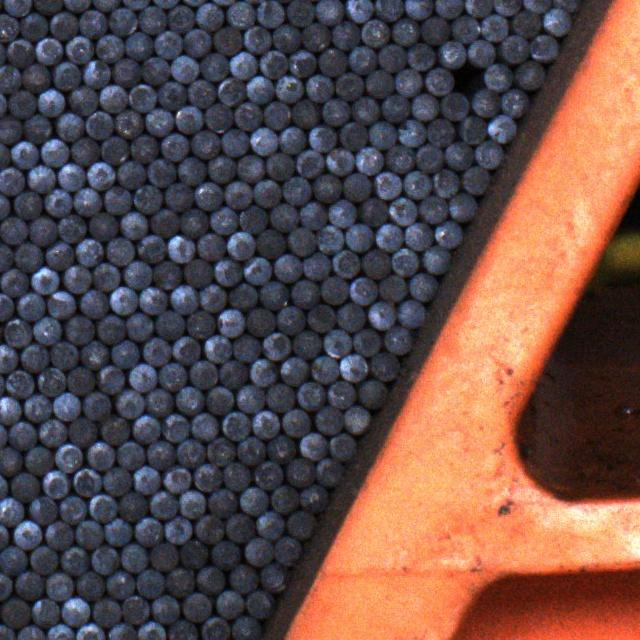tool: (514, 61, 544, 90), (115, 388, 144, 418), (287, 228, 316, 257), (246, 590, 275, 619), (75, 570, 104, 599), (254, 230, 283, 259), (498, 36, 528, 64), (156, 310, 184, 340), (180, 592, 210, 620), (286, 512, 316, 540), (169, 284, 197, 314), (212, 540, 240, 570), (15, 241, 43, 271), (64, 314, 92, 344), (96, 313, 124, 343), (0, 599, 28, 629), (295, 148, 323, 177), (150, 541, 178, 570), (254, 460, 282, 489), (222, 462, 250, 491), (227, 232, 255, 261), (276, 306, 304, 335), (318, 47, 347, 75), (226, 513, 254, 542), (216, 590, 244, 619), (6, 38, 34, 67), (268, 204, 297, 232), (132, 415, 160, 444), (28, 545, 56, 574), (296, 382, 324, 411), (61, 597, 89, 626), (132, 185, 160, 214), (180, 208, 208, 237), (278, 356, 306, 385), (30, 598, 58, 627), (175, 439, 203, 468), (222, 412, 250, 441), (214, 26, 242, 55), (271, 24, 299, 53), (38, 418, 66, 447), (204, 103, 232, 132), (160, 133, 188, 162), (157, 81, 185, 110), (183, 28, 211, 57), (252, 178, 280, 207), (247, 308, 275, 337), (24, 445, 52, 474), (115, 161, 144, 189), (46, 572, 74, 601), (95, 363, 123, 392), (291, 331, 319, 360), (383, 325, 411, 354), (369, 351, 398, 379), (191, 130, 220, 158), (9, 471, 37, 500), (118, 492, 147, 520), (273, 535, 301, 564), (86, 442, 114, 471), (190, 413, 218, 442), (32, 316, 60, 345), (319, 275, 347, 304), (359, 198, 387, 227), (487, 115, 515, 144), (528, 33, 557, 61), (367, 302, 395, 331), (38, 366, 66, 395), (154, 260, 182, 289), (286, 457, 314, 486), (14, 519, 42, 548), (46, 520, 74, 549), (68, 87, 96, 116), (79, 341, 107, 370), (110, 58, 139, 86), (4, 369, 32, 398), (68, 417, 96, 446), (98, 416, 127, 444), (151, 207, 179, 236), (80, 290, 108, 319), (360, 249, 389, 277), (105, 569, 133, 598), (260, 562, 287, 592), (218, 308, 245, 338), (74, 521, 102, 549), (92, 264, 120, 292), (135, 568, 163, 596), (475, 140, 503, 168), (260, 281, 288, 309), (462, 167, 490, 195), (47, 291, 75, 319), (398, 299, 426, 327), (133, 518, 161, 546), (423, 246, 451, 274), (101, 467, 129, 495), (197, 233, 225, 261), (274, 74, 302, 102), (21, 64, 49, 92), (13, 190, 41, 218), (341, 173, 369, 201), (425, 118, 453, 146), (154, 31, 182, 59), (374, 222, 402, 250), (307, 305, 335, 333), (127, 85, 155, 113), (328, 200, 356, 228), (262, 333, 290, 361), (309, 355, 337, 383), (146, 160, 174, 188), (378, 43, 406, 71), (138, 286, 166, 314), (238, 487, 266, 515), (228, 52, 256, 80), (238, 205, 266, 233), (140, 56, 168, 84), (230, 564, 258, 592), (311, 174, 339, 202), (180, 539, 208, 567), (124, 262, 152, 290), (389, 198, 417, 226), (188, 359, 216, 387), (361, 20, 389, 48), (89, 495, 117, 523), (262, 102, 290, 130), (334, 73, 362, 101), (336, 304, 364, 332), (208, 205, 236, 233), (128, 362, 156, 390), (174, 386, 202, 414), (414, 145, 442, 173), (107, 8, 135, 36), (246, 75, 274, 103), (450, 15, 478, 43), (129, 134, 157, 162), (86, 162, 114, 190), (244, 536, 272, 564), (440, 92, 468, 120), (224, 180, 252, 208), (194, 181, 222, 209), (184, 259, 212, 287), (349, 97, 377, 125), (256, 512, 284, 540), (199, 54, 227, 82), (270, 486, 298, 514), (50, 341, 78, 369), (4, 320, 32, 348), (126, 312, 154, 340), (69, 136, 97, 164), (266, 384, 294, 412), (543, 7, 571, 35), (484, 64, 512, 92), (144, 106, 172, 134), (289, 280, 317, 308), (326, 379, 354, 407), (232, 334, 260, 362), (58, 496, 86, 524), (90, 212, 118, 240), (150, 595, 178, 623), (29, 267, 57, 295), (472, 90, 500, 118), (158, 363, 186, 391), (95, 33, 123, 61), (204, 386, 232, 414), (302, 252, 330, 280), (102, 518, 130, 546), (216, 78, 244, 106), (267, 436, 295, 464), (72, 467, 100, 495), (357, 379, 385, 407), (136, 234, 164, 262), (141, 337, 169, 365), (435, 219, 463, 247), (448, 193, 476, 221), (6, 90, 34, 118), (44, 241, 72, 269), (384, 146, 412, 174), (339, 352, 366, 381), (150, 490, 177, 519), (165, 567, 192, 596), (165, 182, 192, 211), (333, 22, 360, 51), (290, 99, 317, 128), (132, 464, 159, 493), (287, 49, 314, 78), (301, 23, 328, 52), (122, 594, 149, 623), (172, 336, 199, 365), (99, 85, 126, 114), (125, 30, 152, 59), (317, 226, 344, 255), (9, 421, 36, 450), (120, 542, 147, 571), (502, 88, 529, 117), (113, 109, 140, 138), (206, 438, 233, 467), (445, 141, 472, 170), (195, 514, 222, 543), (315, 407, 342, 436), (344, 406, 371, 435), (56, 113, 83, 142), (161, 413, 188, 442), (418, 197, 447, 224), (24, 394, 51, 423), (260, 50, 287, 78), (322, 328, 349, 356), (354, 146, 382, 173), (348, 45, 375, 73), (281, 177, 309, 204), (372, 172, 400, 199), (281, 410, 309, 437), (300, 432, 328, 459), (236, 385, 264, 412), (208, 489, 235, 517), (242, 25, 269, 53), (344, 225, 372, 252), (163, 515, 190, 543), (393, 68, 420, 96), (186, 79, 213, 107), (322, 98, 350, 125), (220, 129, 247, 157), (110, 286, 137, 314), (277, 127, 304, 155), (83, 392, 111, 419), (305, 75, 332, 103), (85, 110, 112, 138), (146, 442, 173, 470), (170, 56, 197, 84), (404, 170, 431, 198), (120, 212, 147, 240), (54, 444, 81, 472), (333, 249, 360, 277), (242, 256, 270, 283), (251, 411, 278, 439), (37, 89, 64, 117), (348, 276, 375, 304), (369, 121, 396, 149), (52, 391, 79, 419), (257, 0, 285, 27), (273, 255, 300, 283), (41, 138, 68, 166), (206, 156, 233, 184), (251, 128, 278, 156), (187, 310, 214, 338), (380, 95, 407, 123), (226, 0, 254, 27), (64, 36, 91, 64), (28, 216, 55, 244), (29, 496, 56, 524), (21, 344, 48, 372), (421, 17, 448, 45), (238, 438, 265, 466), (20, 11, 47, 39), (74, 238, 101, 266), (57, 163, 84, 191), (24, 115, 51, 143), (100, 135, 127, 163), (404, 221, 431, 249), (43, 188, 70, 216), (15, 572, 42, 600), (392, 18, 419, 46), (102, 185, 129, 213), (173, 104, 200, 132), (92, 598, 119, 626), (176, 157, 203, 185), (198, 285, 226, 312), (364, 70, 391, 98), (91, 546, 118, 574), (83, 60, 110, 88), (9, 140, 36, 168), (79, 10, 106, 38), (409, 272, 436, 300), (111, 341, 139, 368), (426, 68, 453, 96), (17, 292, 44, 320), (196, 4, 223, 32), (196, 566, 223, 594), (166, 234, 193, 262), (228, 282, 256, 309), (339, 123, 366, 151), (62, 266, 89, 294), (215, 260, 242, 288), (351, 329, 379, 356), (146, 389, 173, 417), (104, 237, 132, 264), (330, 433, 357, 461), (166, 6, 193, 34), (378, 274, 406, 301), (512, 11, 540, 38), (460, 117, 488, 144), (54, 62, 80, 91), (66, 366, 92, 395), (300, 484, 327, 511), (163, 465, 190, 492), (480, 13, 507, 40), (193, 463, 220, 490), (326, 147, 353, 174), (407, 43, 434, 70), (117, 442, 144, 469), (50, 11, 77, 38), (439, 40, 466, 67), (27, 166, 54, 193), (266, 152, 293, 179), (58, 214, 85, 241), (236, 155, 263, 182), (411, 94, 438, 121), (308, 126, 336, 152), (467, 39, 493, 67), (204, 336, 230, 364), (286, 0, 314, 26), (178, 489, 204, 517), (300, 201, 326, 229), (398, 118, 424, 146), (234, 102, 260, 130), (62, 547, 88, 575), (41, 470, 67, 498), (249, 358, 275, 386), (392, 248, 418, 276), (0, 216, 26, 244), (433, 168, 459, 196), (318, 458, 344, 486), (218, 360, 244, 387), (35, 37, 61, 64), (138, 5, 164, 32), (74, 187, 100, 214), (0, 269, 26, 296), (0, 545, 24, 574), (231, 616, 260, 640), (316, 0, 343, 24), (201, 617, 229, 640), (0, 496, 23, 524), (0, 167, 23, 195), (167, 619, 196, 640), (373, 0, 402, 21), (0, 447, 21, 476), (0, 115, 22, 142), (0, 395, 20, 423), (0, 65, 20, 93), (344, 0, 370, 21), (404, 0, 432, 19), (137, 621, 164, 640), (436, 0, 463, 18), (0, 13, 18, 40), (463, 0, 491, 17), (78, 623, 106, 640), (108, 623, 135, 640), (0, 344, 16, 372), (48, 624, 75, 640), (32, 0, 62, 14), (4, 0, 31, 15), (18, 625, 45, 640), (492, 0, 519, 14), (0, 244, 13, 273), (523, 0, 551, 13), (0, 292, 13, 320), (62, 0, 90, 12), (553, 0, 581, 12), (0, 573, 12, 601), (92, 0, 120, 11), (0, 192, 10, 219), (122, 0, 150, 9), (0, 142, 9, 170), (0, 624, 14, 640), (153, 0, 180, 8), (0, 523, 8, 550), (0, 472, 7, 500), (0, 91, 6, 120), (0, 422, 6, 450), (0, 39, 5, 69), (208, 0, 236, 5), (180, 0, 207, 5)
